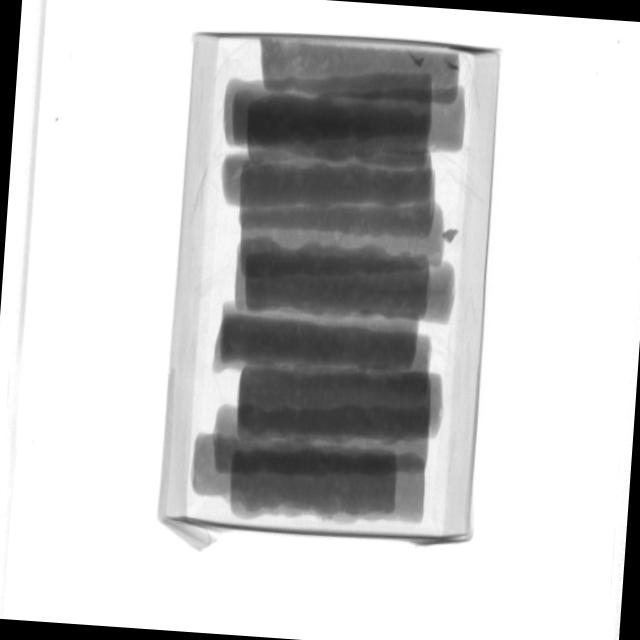ym: (445, 58, 462, 77), (444, 227, 460, 243), (410, 55, 426, 65)
